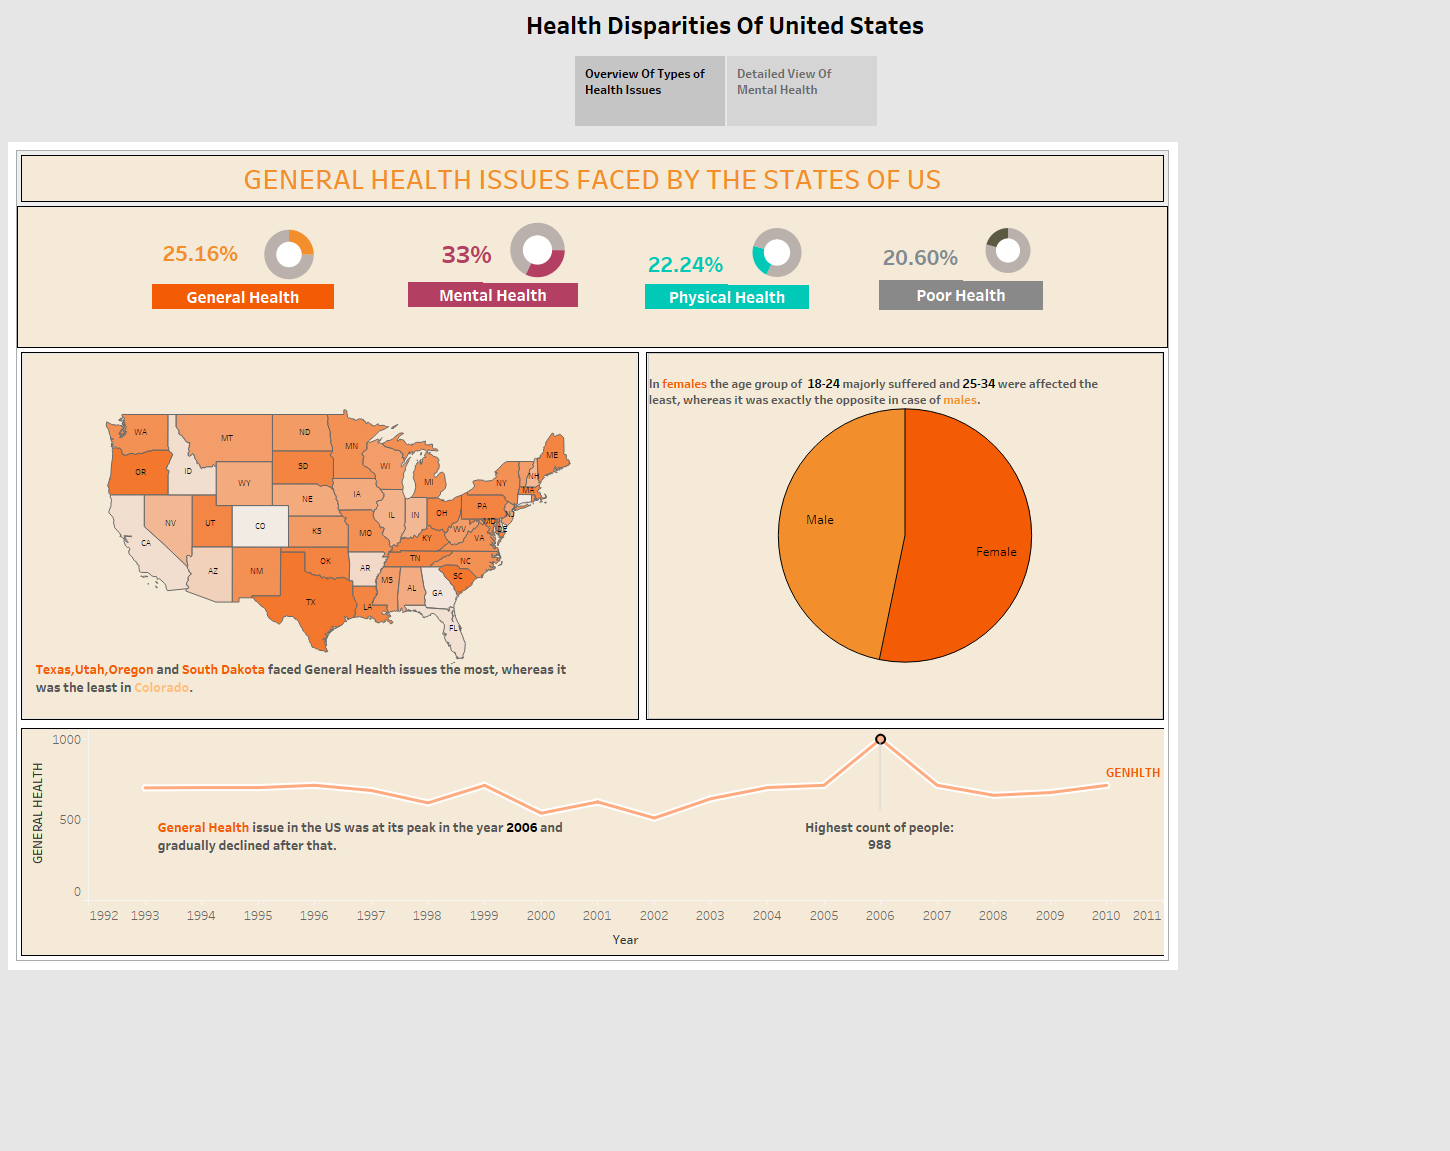

This screenshot's page, from the dashboard's own definition file:
{"tool":"tableau","page":{"name":"General Dash Story","canvas":[1169,827],"ordinal":6},"visuals":[{"type":"text","box":[9,9,1151,55]},{"type":"worksheet","title":"MentalDonutChart","mark":"Pie","rows":["Calculation_1069041962622873603","Calculation_1069041962622873603"],"box":[475,76,109,64]},{"type":"worksheet","title":"PhyDonutChart","mark":"Pie","rows":["Calculation_1069041962622873603","Calculation_1069041962622873603"],"box":[720,79,98,63]},{"type":"worksheet","title":"PoorDonutChart","mark":"Pie","rows":["Calculation_1069041962622873603","Calculation_1069041962622873603"],"box":[955,79,90,59]},{"type":"text","box":[152,84,100,53]},{"type":"worksheet","title":"GenDonutChart","mark":"Pie","rows":["Calculation_1069041962622873603","Calculation_1069041962622873603"],"box":[232,84,99,57]},{"type":"text","box":[431,89,103,45]},{"type":"text","box":[872,96,104,37]},{"type":"text","box":[637,101,115,41]},{"type":"dashboard-object","box":[871,138,164,30]},{"type":"dashboard-object","box":[400,140,170,25]},{"type":"dashboard-object","box":[144,142,182,25]},{"type":"dashboard-object","box":[637,142,164,25]},{"type":"worksheet","title":"General HLTH Map","mark":"Automatic","box":[9,206,625.5,376]},{"type":"worksheet","title":"PieChartGenHlth","mark":"Pie","cols":["Calculation_1440588931308781577","Calculation_1440588931309305867"],"box":[634.5,206,525.5,376]},{"type":"text","box":[638,212,475,75]},{"type":"text","box":[25,512,553,48]},{"type":"worksheet","title":"GENHLTH Line","mark":"Automatic","rows":["Calculation_2714263200890437632"],"cols":["Year"],"box":[9,582,1151,236]},{"type":"text","box":[147,667,430,54]}]}

Visuals, with their boxes on the page's 1169x827 design canvas (x1, y1, x2, y2). These are canvas units, not pixel positions in the 1450x1151 screenshot, which may show the page scaled, cropped or inside an application window:
text: {"x1": 9, "y1": 9, "x2": 1160, "y2": 64}
"MentalDonutChart" worksheet (Pie marks): {"x1": 475, "y1": 76, "x2": 584, "y2": 140}
"PhyDonutChart" worksheet (Pie marks): {"x1": 720, "y1": 79, "x2": 818, "y2": 142}
"PoorDonutChart" worksheet (Pie marks): {"x1": 955, "y1": 79, "x2": 1045, "y2": 138}
text: {"x1": 152, "y1": 84, "x2": 252, "y2": 137}
"GenDonutChart" worksheet (Pie marks): {"x1": 232, "y1": 84, "x2": 331, "y2": 141}
text: {"x1": 431, "y1": 89, "x2": 534, "y2": 134}
text: {"x1": 872, "y1": 96, "x2": 976, "y2": 133}
text: {"x1": 637, "y1": 101, "x2": 752, "y2": 142}
dashboard-object: {"x1": 871, "y1": 138, "x2": 1035, "y2": 168}
dashboard-object: {"x1": 400, "y1": 140, "x2": 570, "y2": 165}
dashboard-object: {"x1": 144, "y1": 142, "x2": 326, "y2": 167}
dashboard-object: {"x1": 637, "y1": 142, "x2": 801, "y2": 167}
"General HLTH Map" worksheet: {"x1": 9, "y1": 206, "x2": 634, "y2": 582}
"PieChartGenHlth" worksheet (Pie marks): {"x1": 634, "y1": 206, "x2": 1160, "y2": 582}
text: {"x1": 638, "y1": 212, "x2": 1113, "y2": 287}
text: {"x1": 25, "y1": 512, "x2": 578, "y2": 560}
"GENHLTH Line" worksheet: {"x1": 9, "y1": 582, "x2": 1160, "y2": 818}
text: {"x1": 147, "y1": 667, "x2": 577, "y2": 721}
